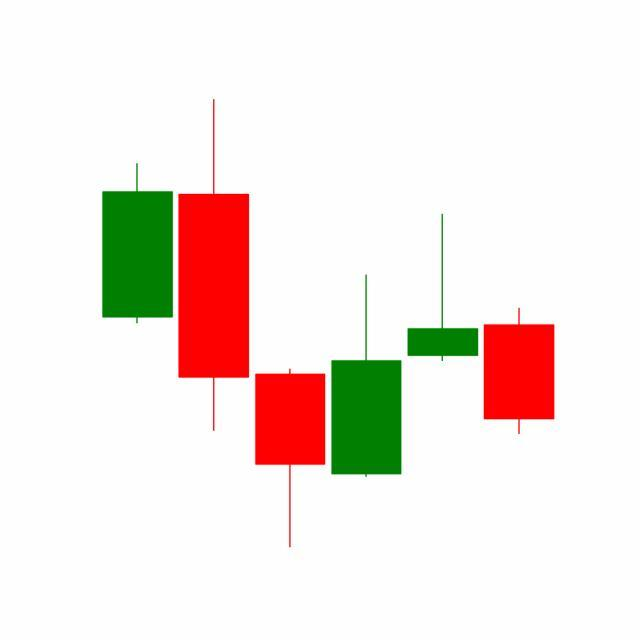Three Outside Up-Down: (252, 210, 482, 549)
